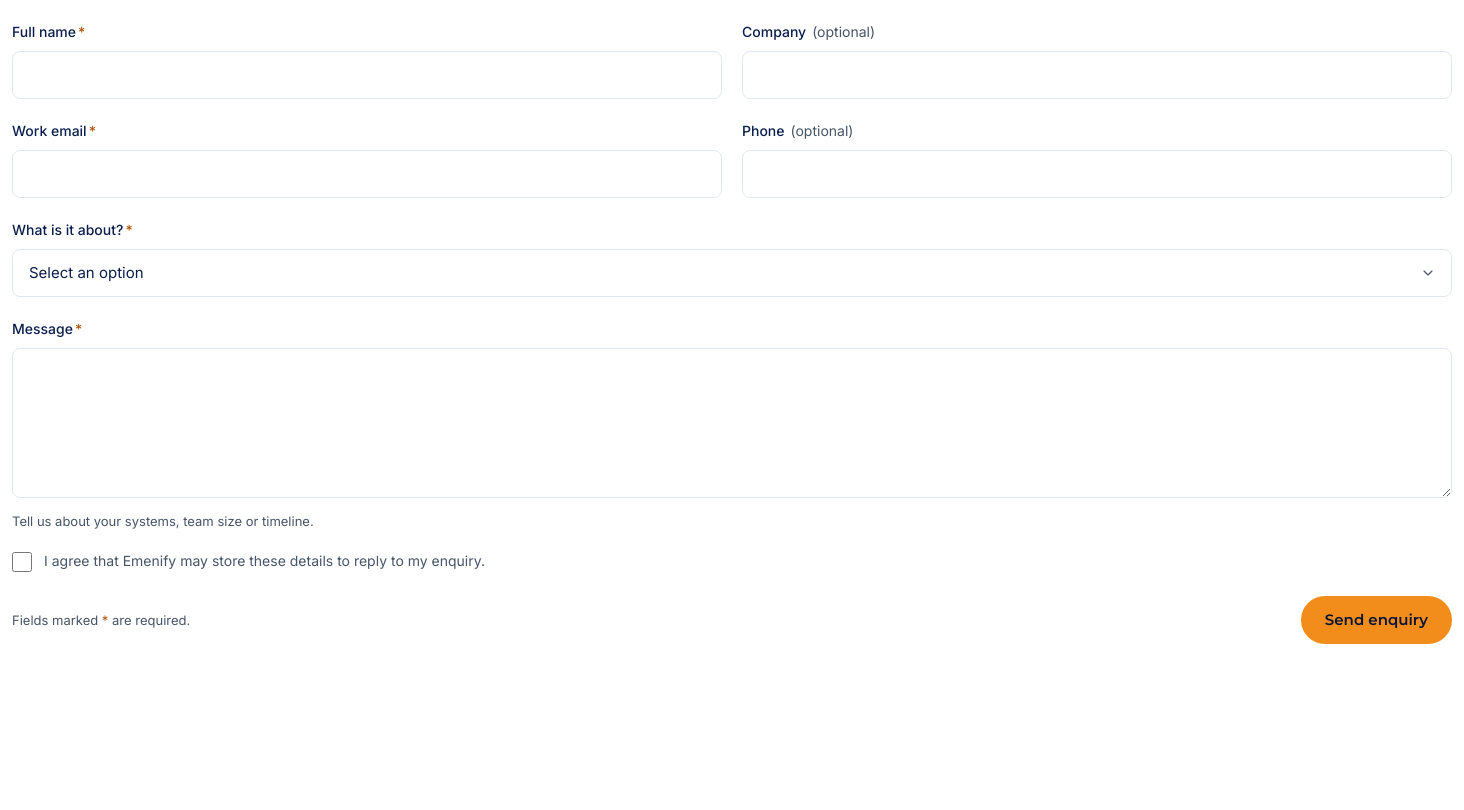
it: GeneralEnquiryForm › asks the user to retry when submitted faster than the minimum time
The width and height of the screenshot is (1464, 810).
Type "Jane Doe" into the field labelled "Full name*" at [367, 75], box [12, 51, 722, 99]
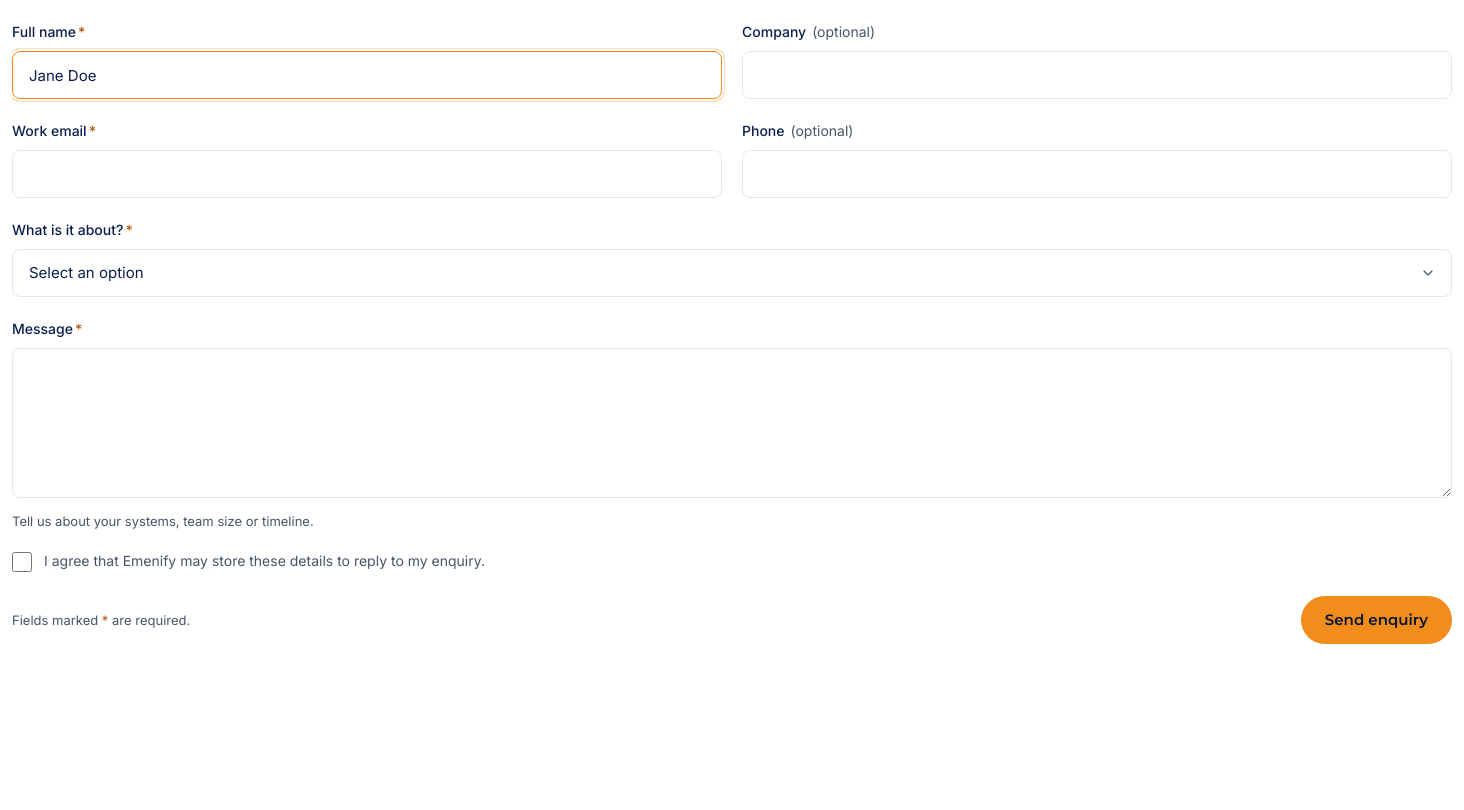
Type "jane@example.com" into the field labelled "Work email*" at [367, 174], box [12, 150, 722, 198]
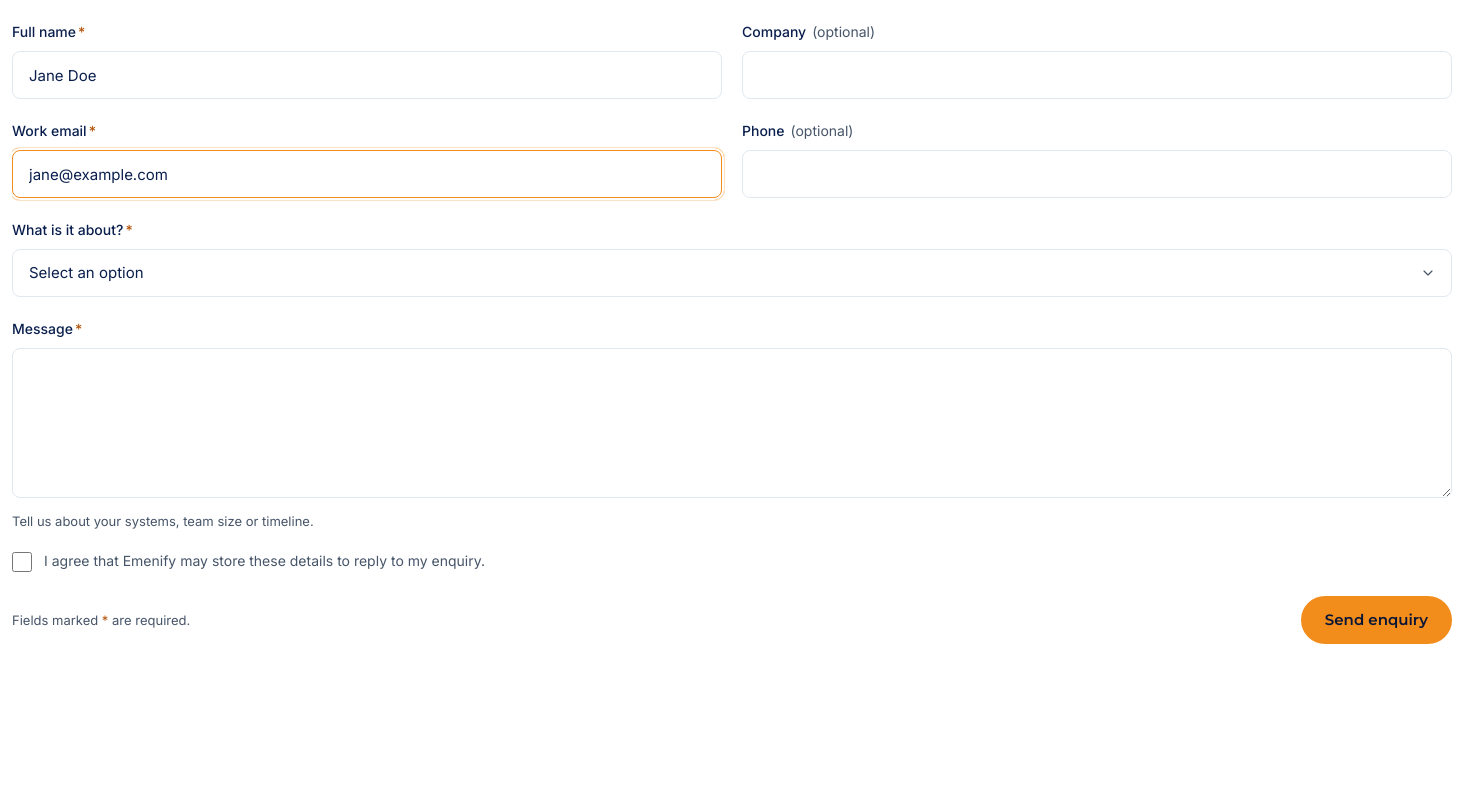
Select "Technology Consulting" in the dropdown labelled "What is it about?*" at [732, 273], box [12, 249, 1452, 297]
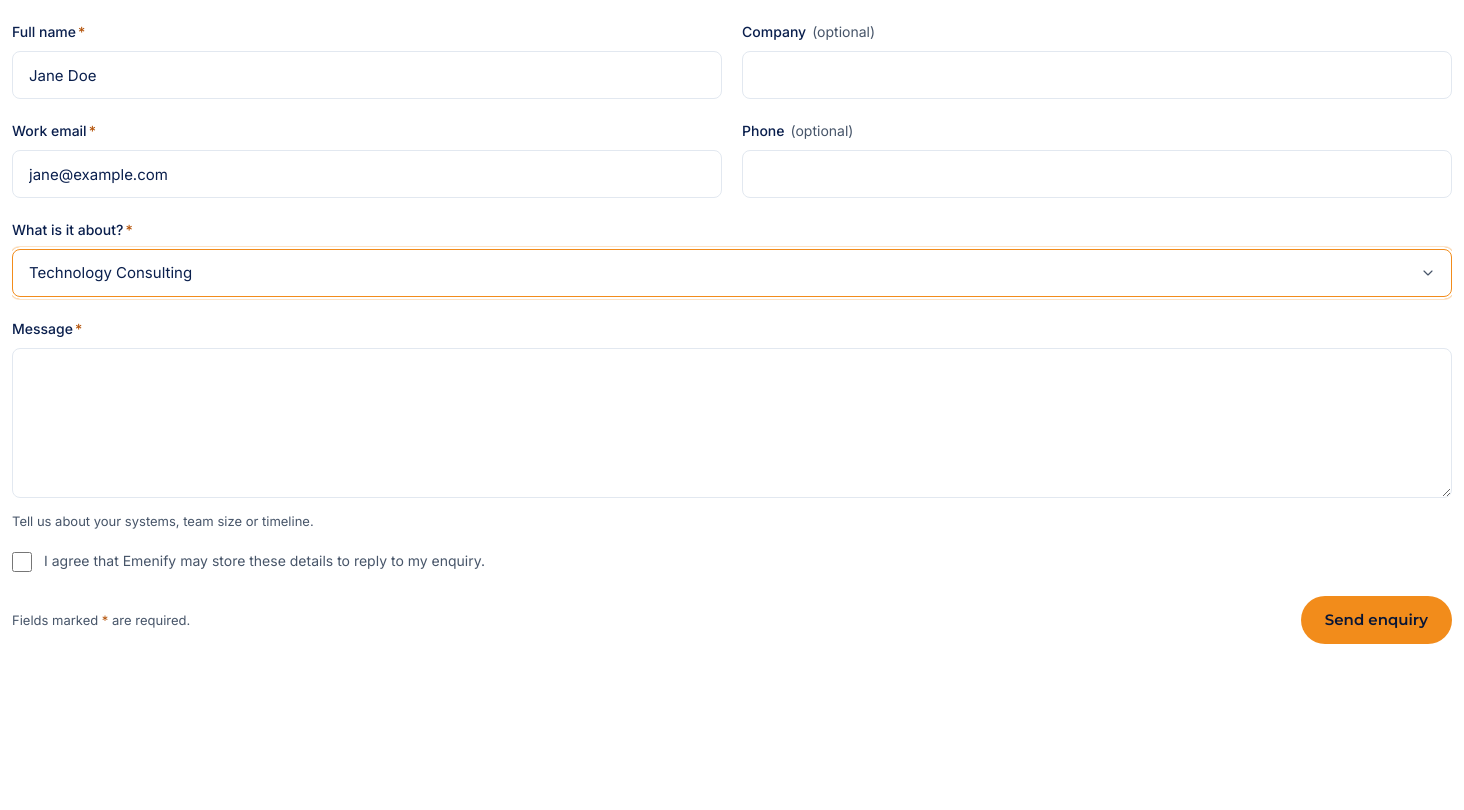
Type "We need a cloud readiness assessment." into the text box labelled "Message*" at [732, 423], box [12, 348, 1452, 498]
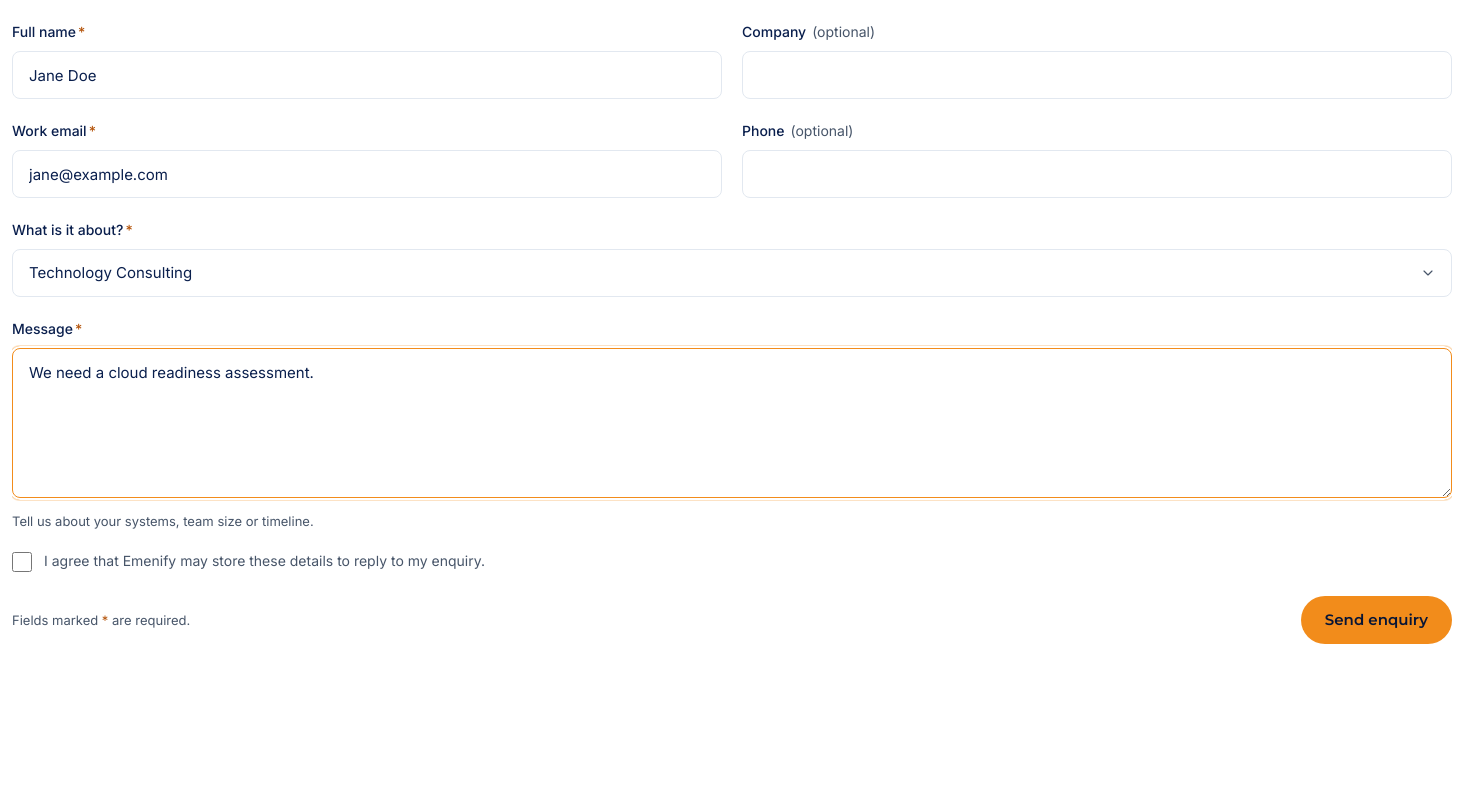
Click the checkbox labelled "I agree" at [22, 562], box [12, 552, 32, 572]
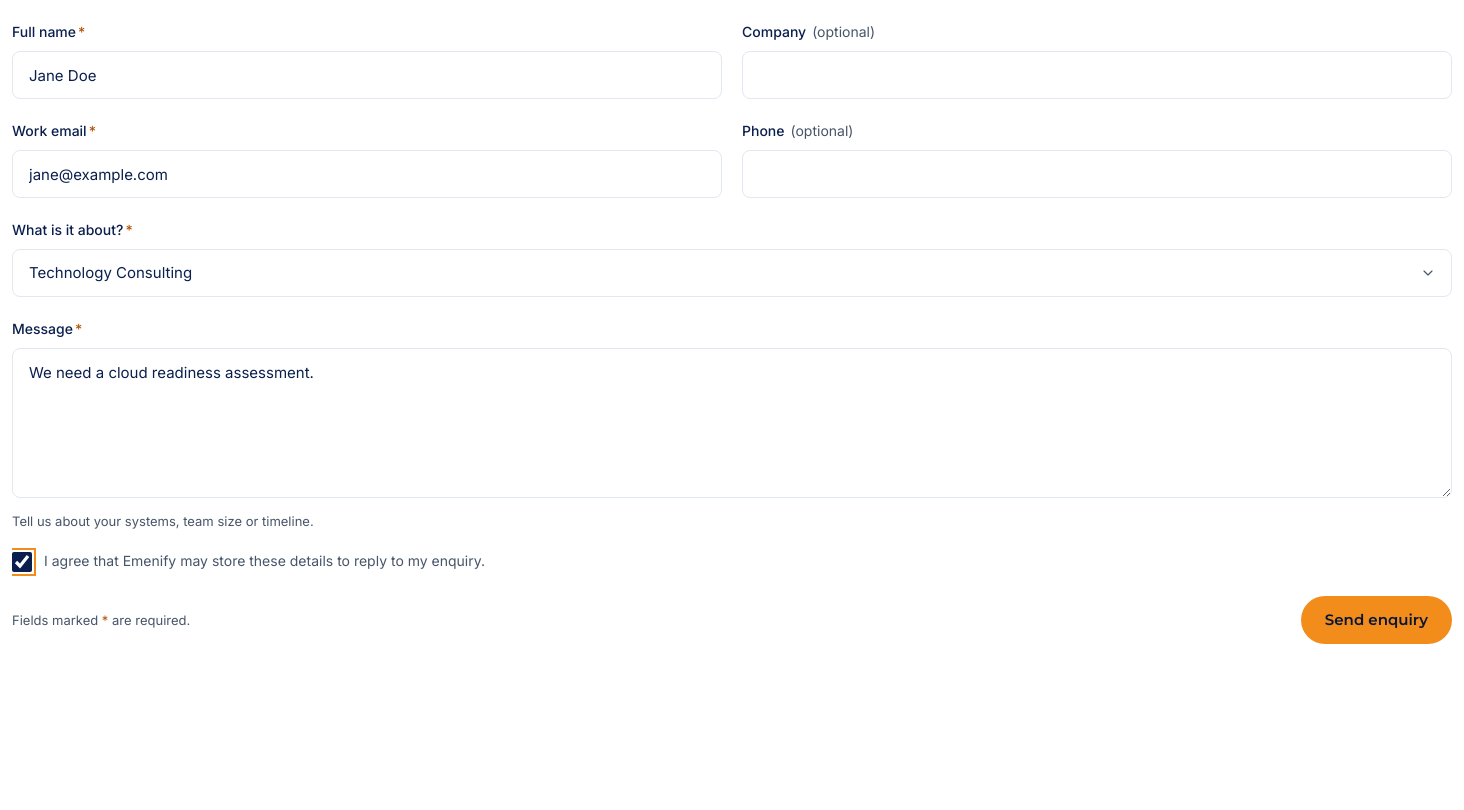
Click the button "Send enquiry" at [1376, 620], box [1301, 596, 1452, 644]
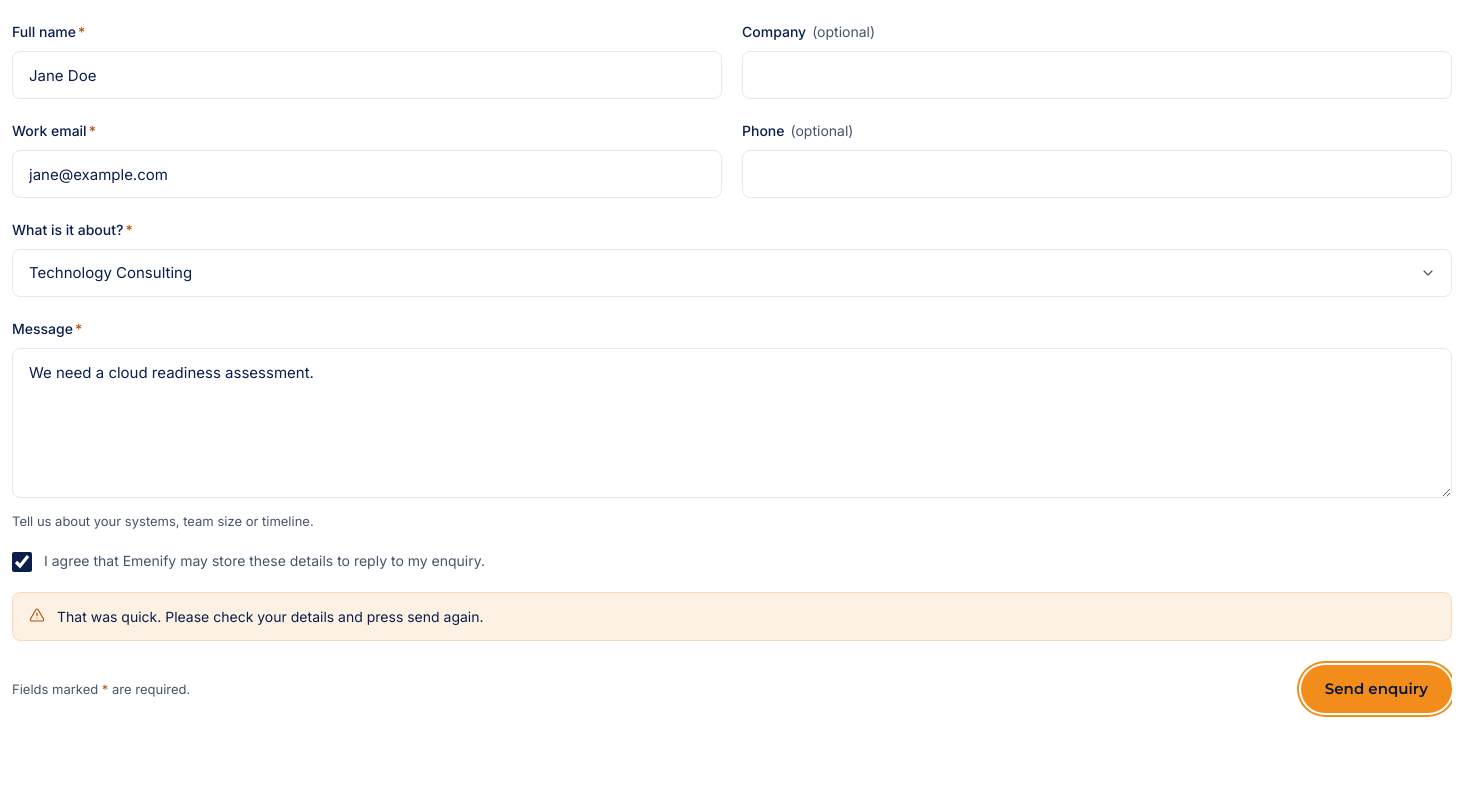
Expected: the text "That was quick. Please check your details and press send again." is shown, [12, 592, 1452, 642]
